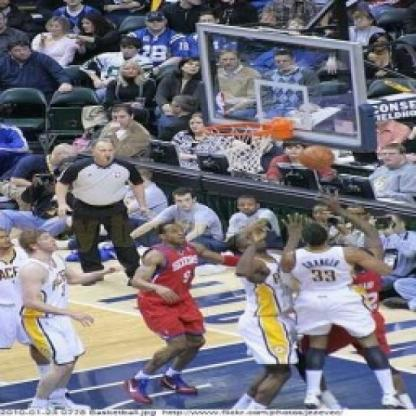basketball: (301, 143, 333, 173)
